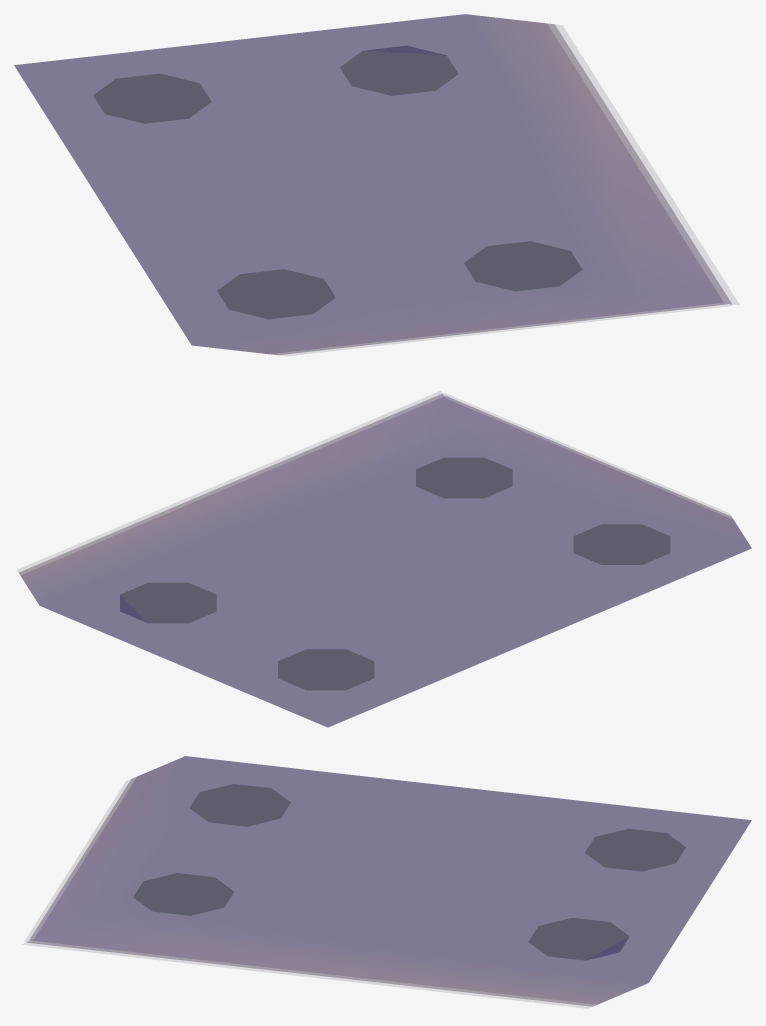
3 renders of one model, top to bottom at view 1: azimuth 30°, elevation 25°; view 2: azimuth 150°, elevation 25°; view 3: azimuth 270°, elevation 25°, orthographic. The views are drawn at different scales.
Parts seen in each view (by area): view 1: Joint_0_Object_0; view 2: Joint_0_Object_0; view 3: Joint_0_Object_0.
Boxes of the visible parts, x1,y1,x2,y2 form: Joint_0_Object_0: (14,14,732,355); Joint_0_Object_0: (19,393,751,727); Joint_0_Object_0: (26,756,751,1006).
Size of the model in its own units: 888 by 1 by 1082.
1 material, 1 textured.
